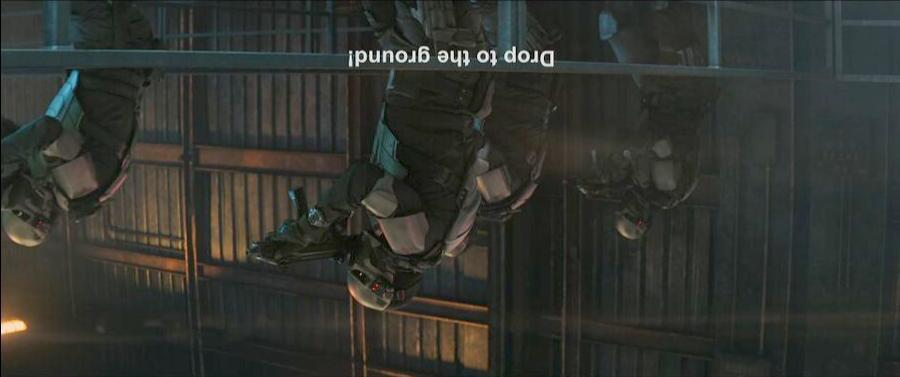gun: (242, 179, 364, 270), (566, 146, 634, 206)
